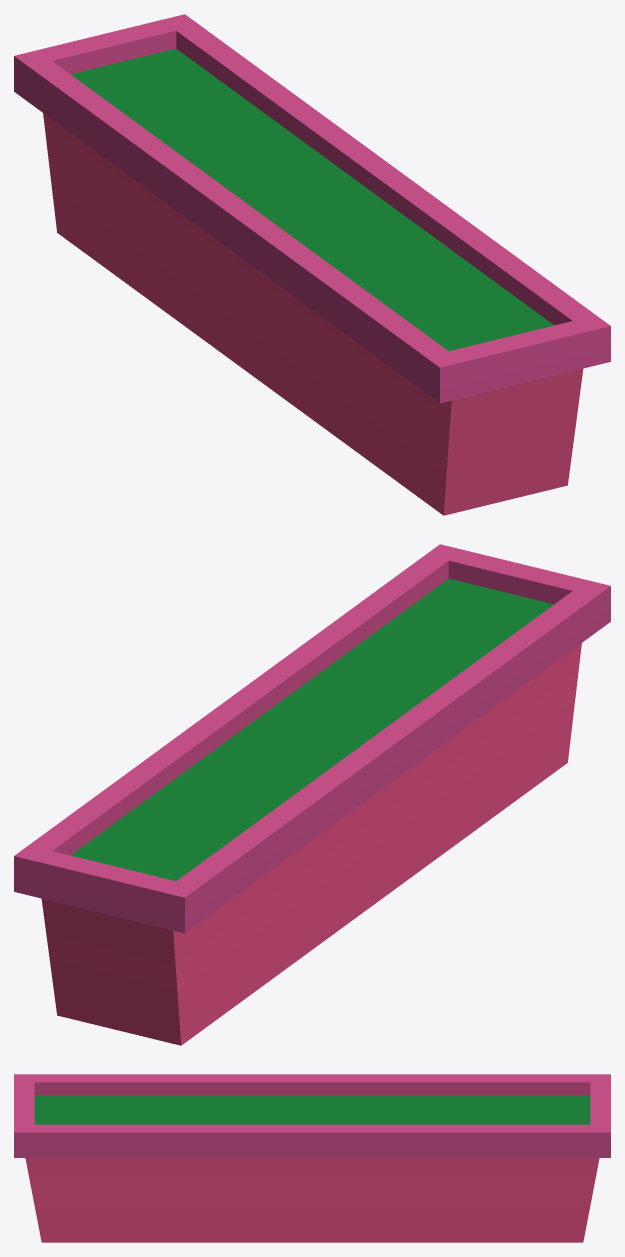
Rendered from FlowerPot_5_1_D.fbx.
The picture shows the model from 3 angles, top to bottom: view 1: azimuth 30°, elevation 25°; view 2: azimuth 150°, elevation 25°; view 3: azimuth 270°, elevation 25°; orthographic projection. The views are drawn at different scales.
Visible parts, largest first — view 1: FlowerPot_5_1_D; view 2: FlowerPot_5_1_D; view 3: FlowerPot_5_1_D.
Boxes of the visible parts, x1=… form: FlowerPot_5_1_D: x1=14, y1=14, x2=610, y2=515; FlowerPot_5_1_D: x1=14, y1=544, x2=610, y2=1045; FlowerPot_5_1_D: x1=14, y1=1074, x2=610, y2=1242.
Size of the model in its own units: 32.46 by 30.52 by 140.
